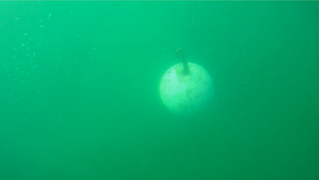buoy: (158, 62, 215, 116)
